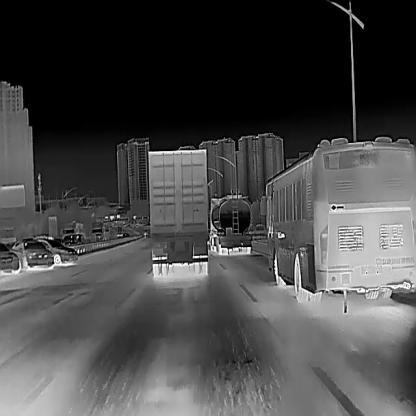car: (260, 136, 416, 312), (147, 148, 207, 275), (208, 189, 252, 255), (10, 237, 55, 269), (32, 235, 78, 265), (0, 242, 20, 273), (59, 220, 85, 242), (91, 220, 104, 241), (62, 236, 78, 244)
